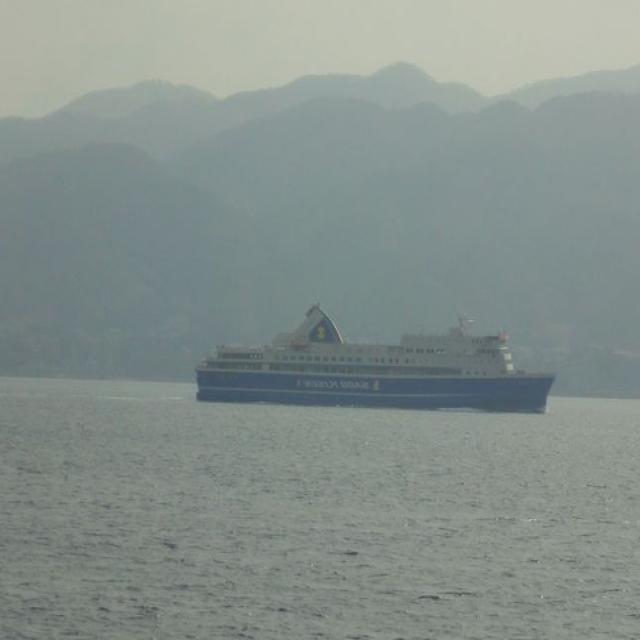passenger ship: (172, 306, 564, 436)
